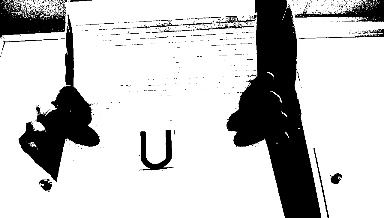U: (133, 129, 174, 167)
